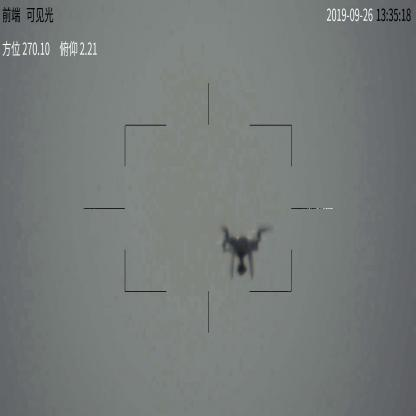uav: (217, 224, 268, 278)
